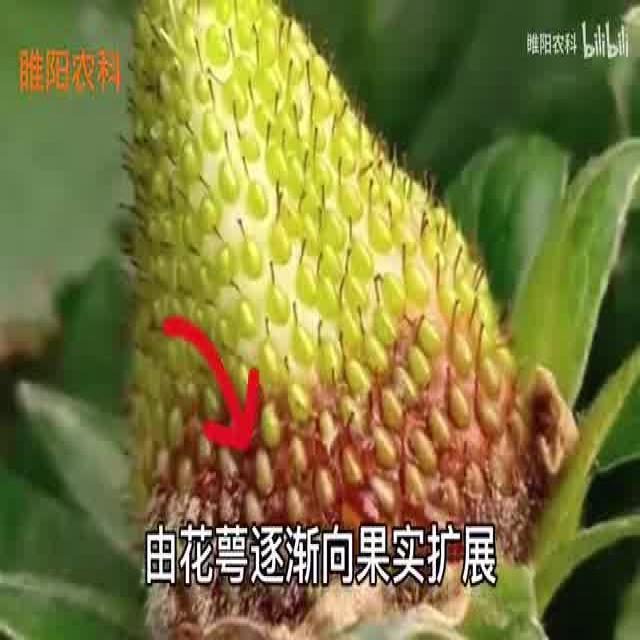Moho gris: (103, 11, 544, 618)
